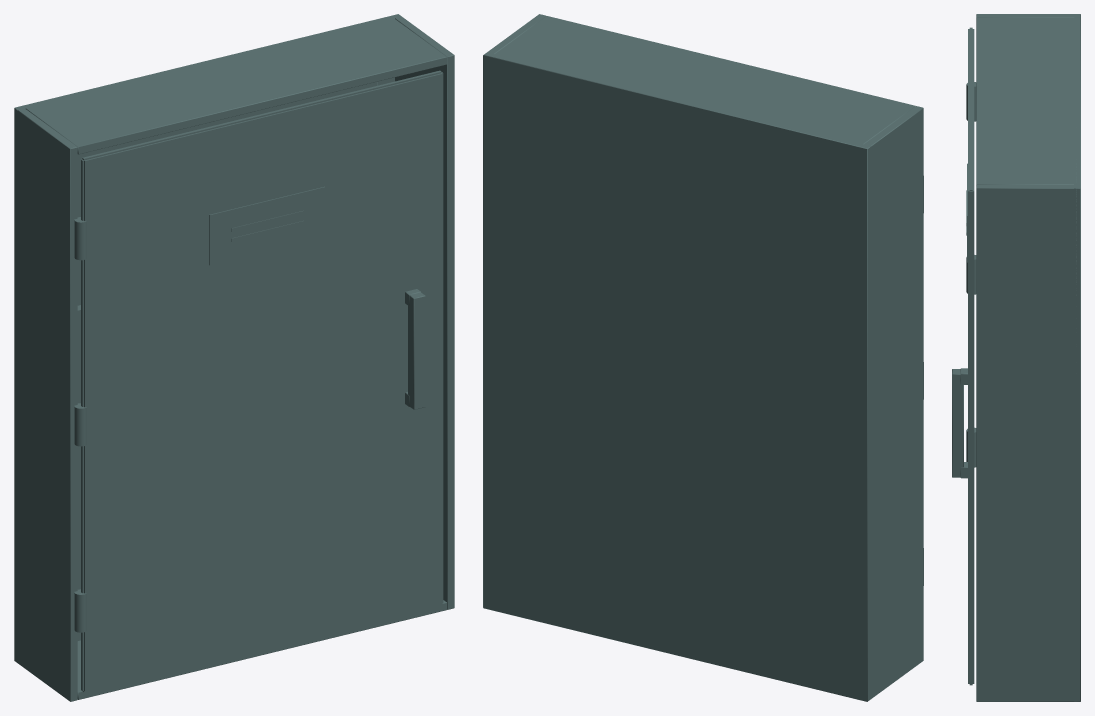
The model's file is OBJ-009_TableroAntiguo.fbx.
The picture shows the model from 3 angles, left to right: view 1: azimuth 30°, elevation 25°; view 2: azimuth 150°, elevation 25°; view 3: azimuth 270°, elevation 25°; orthographic projection. The views are drawn at different scales.
Parts seen in each view (by area): view 1: GEO-009-Door, GEO-009-Body; view 2: GEO-009-Body; view 3: GEO-009-Body, GEO-009-Door.
Part boxes in pixels (x1,y1,x2,y2): GEO-009-Door: [74, 70, 443, 692]; GEO-009-Body: [14, 14, 454, 701]; GEO-009-Body: [483, 14, 923, 701]; GEO-009-Body: [976, 14, 1080, 701]; GEO-009-Door: [952, 27, 976, 685].
Bounding box in the file's own units: 0.8 × 1.1 × 0.25.
